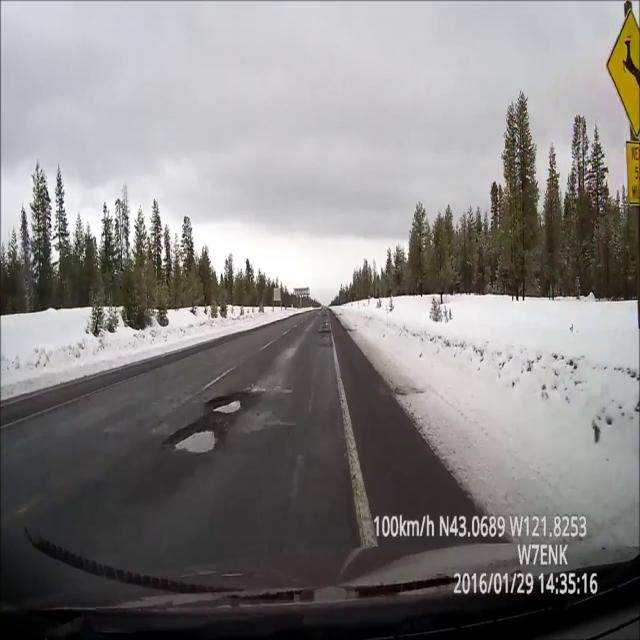Pothole: (168, 423, 221, 456), (205, 392, 244, 422), (322, 322, 329, 329), (319, 330, 330, 334), (322, 314, 328, 321)
